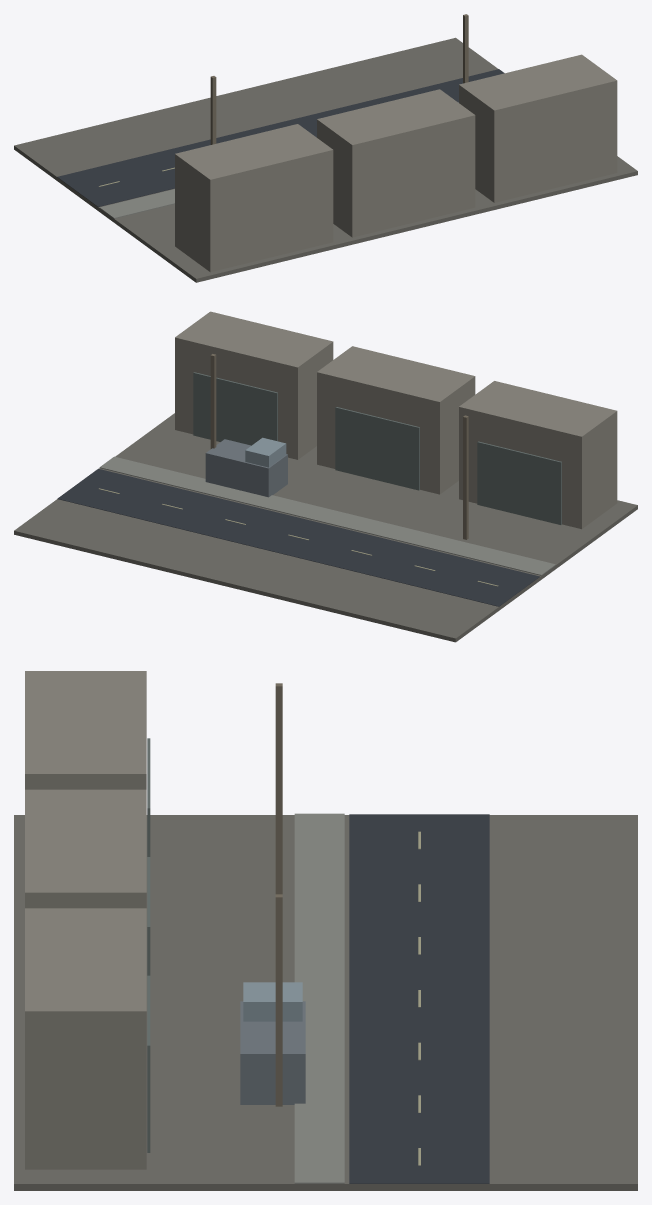
File: avenidaIndustrial.obj
3 views of the same model, one above another, from view 1: azimuth 30°, elevation 25°; view 2: azimuth 150°, elevation 25°; view 3: azimuth 270°, elevation 25° (orthographic). The views are drawn at different scales.
Visible parts, largest first — view 1: Taller, Suelo, Calle, Acera, Poste; view 2: Suelo, Taller, Calle, Portón_industrial, Acera, Camión, Poste, Cabina_del_camión; view 3: Suelo, Taller, Calle, Acera, Camión, Poste, Cabina_del_camión, Portón_industrial.
Part boxes in pixels (x1=…): Taller: x1=175, y1=54, x2=617, y2=272; Suelo: x1=14, y1=37, x2=637, y2=282; Calle: x1=57, y1=69, x2=504, y2=206; Acera: x1=99, y1=189, x2=174, y2=218; Poste: x1=210, y1=14, x2=468, y2=144; Suelo: x1=14, y1=413, x2=637, y2=642; Taller: x1=175, y1=311, x2=617, y2=529; Calle: x1=57, y1=468, x2=539, y2=606; Portón_industrial: x1=193, y1=372, x2=561, y2=524; Acera: x1=99, y1=456, x2=555, y2=575; Camión: x1=205, y1=439, x2=287, y2=497; Poste: x1=210, y1=354, x2=468, y2=539; Cabina_del_camión: x1=245, y1=437, x2=286, y2=467; Suelo: x1=14, y1=815, x2=637, y2=1190; Taller: x1=25, y1=671, x2=146, y2=1169; Calle: x1=349, y1=814, x2=489, y2=1183; Acera: x1=294, y1=813, x2=344, y2=1183; Camión: x1=240, y1=1001, x2=305, y2=1104; Poste: x1=275, y1=683, x2=282, y2=1106; Cabina_del_camión: x1=243, y1=982, x2=302, y2=1021; Portón_industrial: x1=147, y1=738, x2=150, y2=1152.
Bounding box in the file's own units: 28 × 7.64 × 20.
